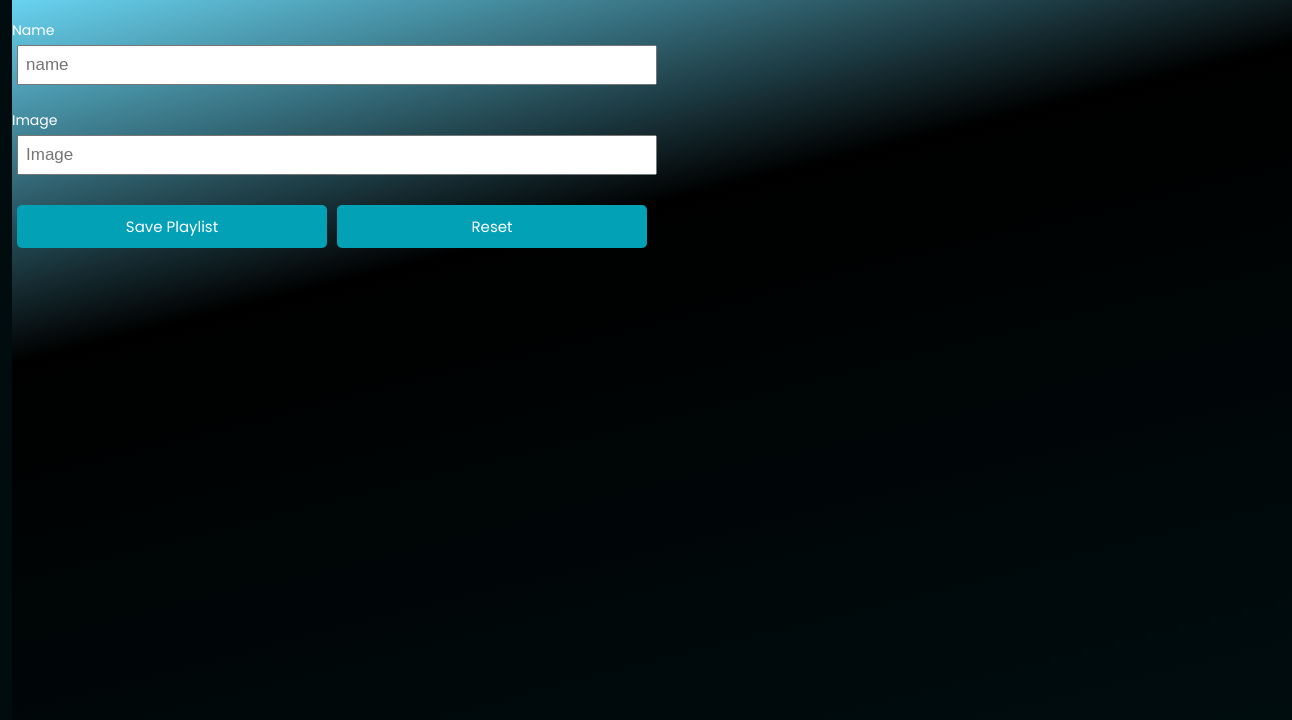
The event is working › fill the form with values and then reset the form
Type "Trip" into the field with id "input-name" at (337, 65), box [17,45,657,85]
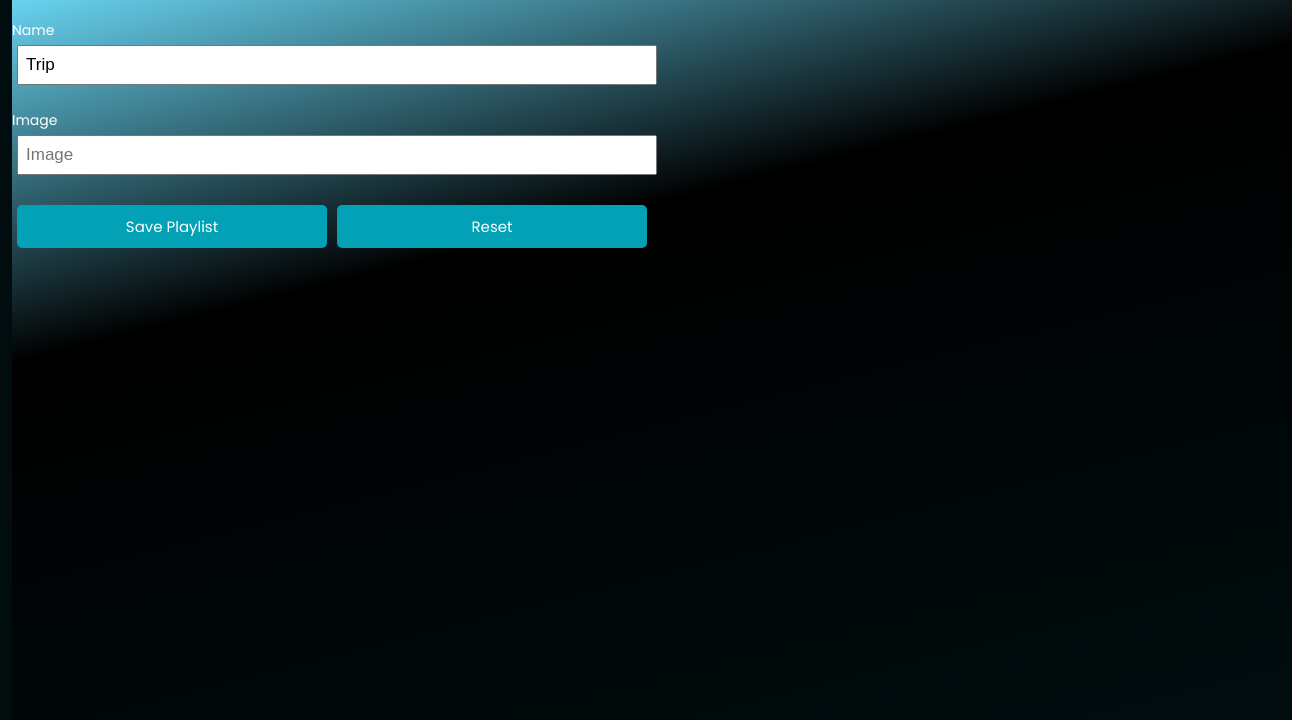
Type "album22" into the field with id "input-image" at (337, 155), box [17,135,657,175]
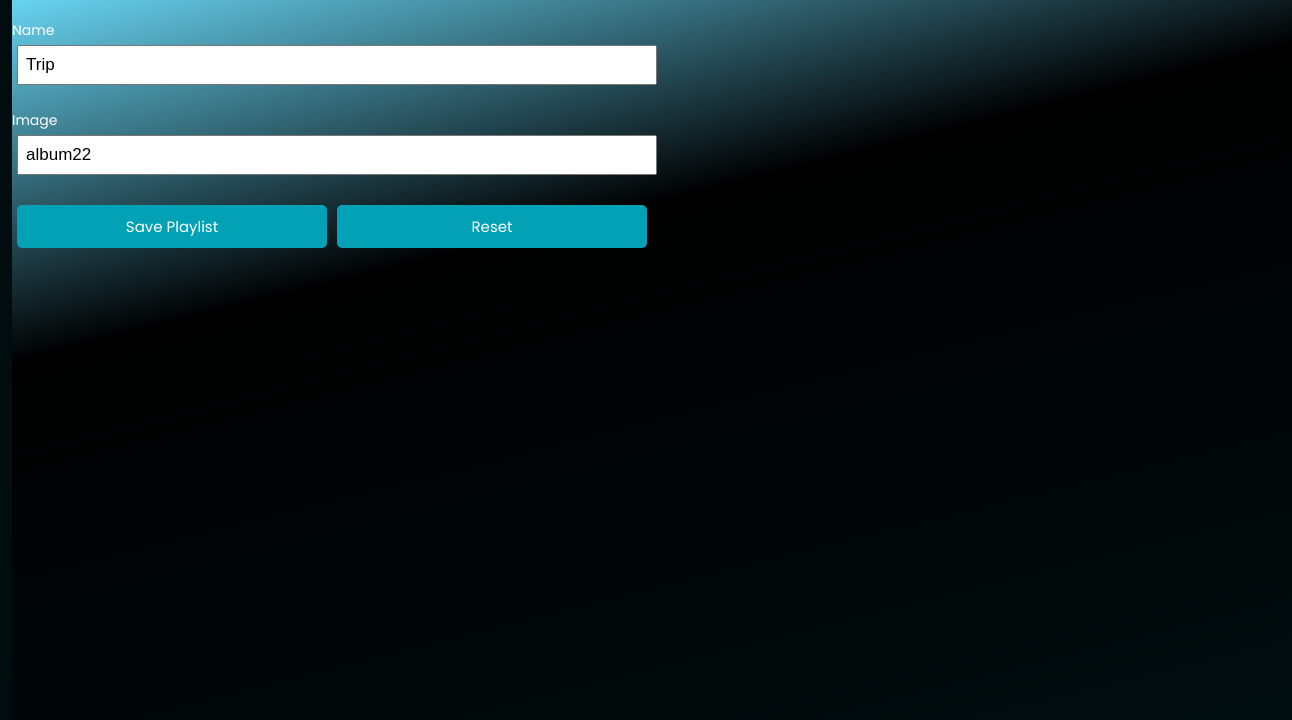
Click the button with id "reset-button" at (492, 226), box [337,205,647,248]
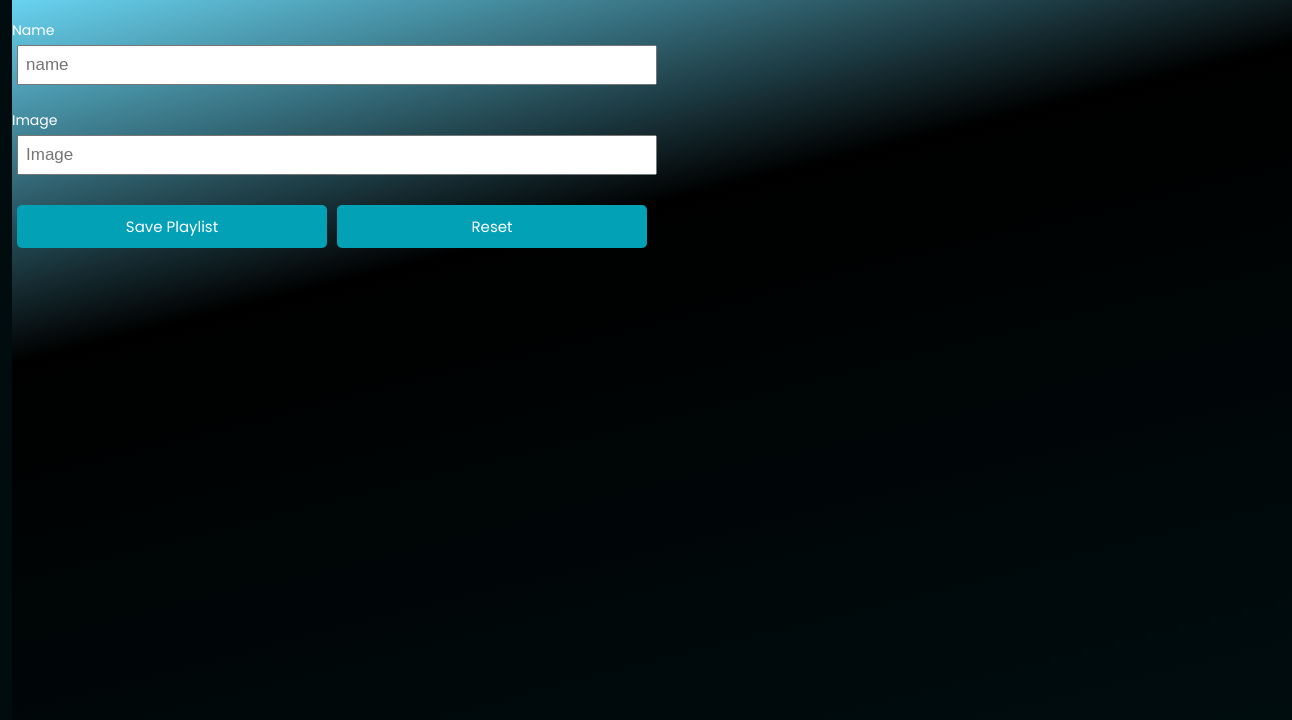
Expected: the field with id "input-name" is empty, [17,45,657,85]
Expected: the field with id "input-image" is empty, [17,135,657,175]
